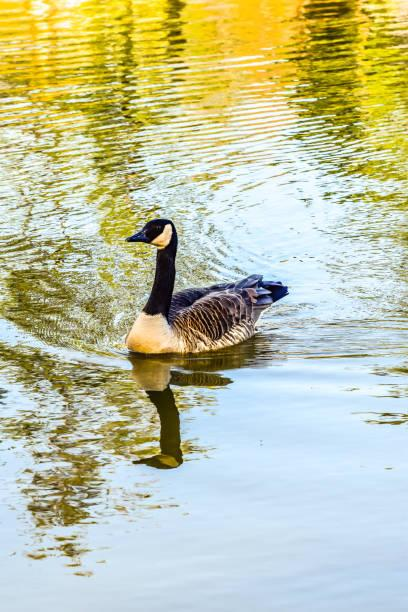Canadian-Goose: (123, 216, 290, 354)
